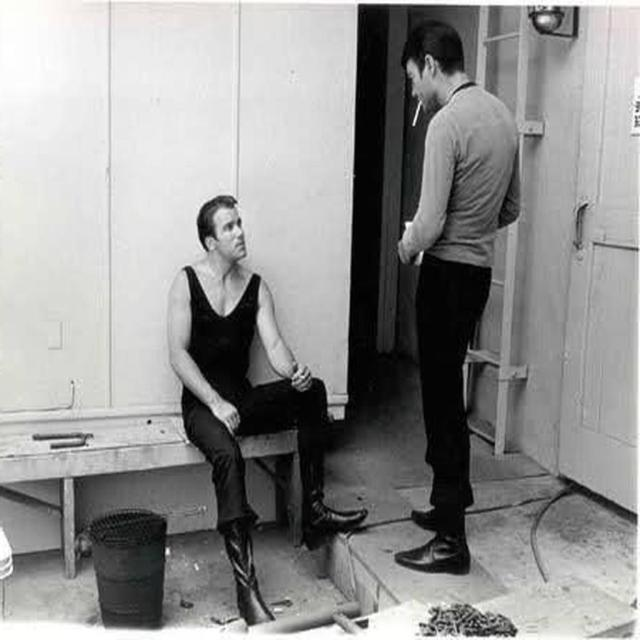smoking: (384, 79, 430, 139), (278, 354, 335, 391)
